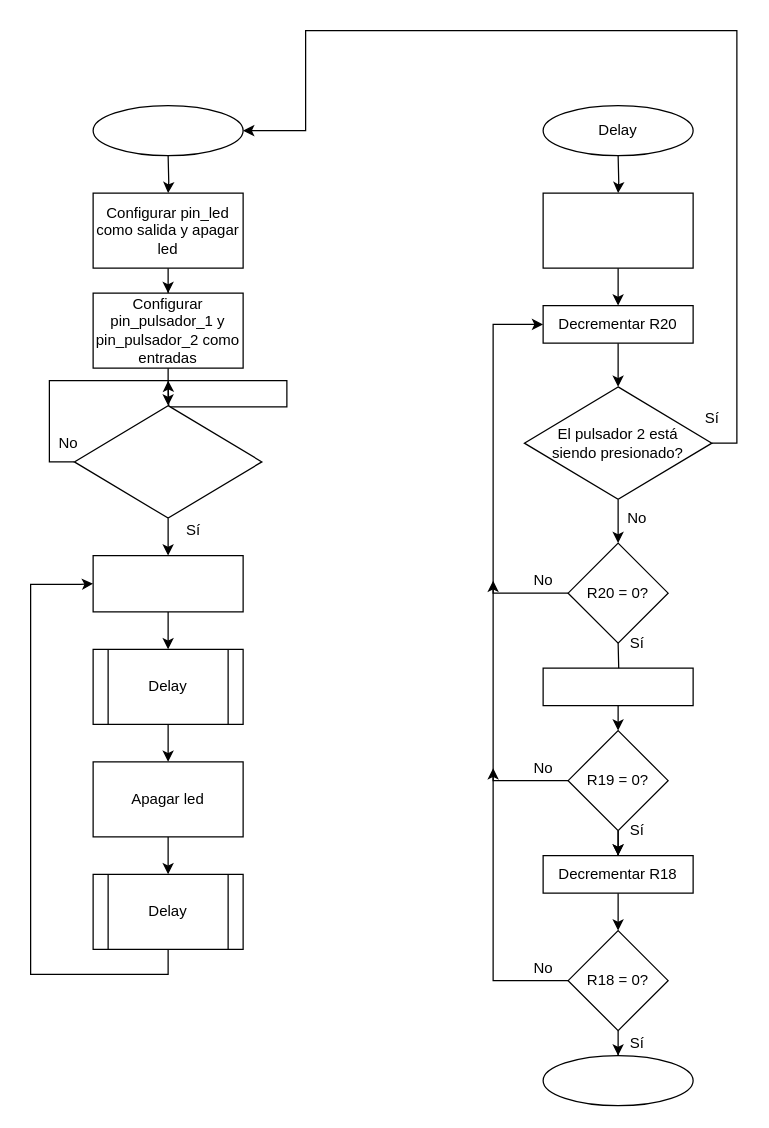
Image size: 769x1128. Some labels were removed from this diagram. Here are the shapes that lost their labels. From the top down, the centre of each, then its label:
[167,130]: Inicio
[617,230]: R18 <-- 41 R19 <-- 150 R20 <-- 128
[167,461]: El pulsador 1 está siendo presionado?
[167,583]: Encender led
[617,686]: Decrementar R19
[617,1080]: Return
